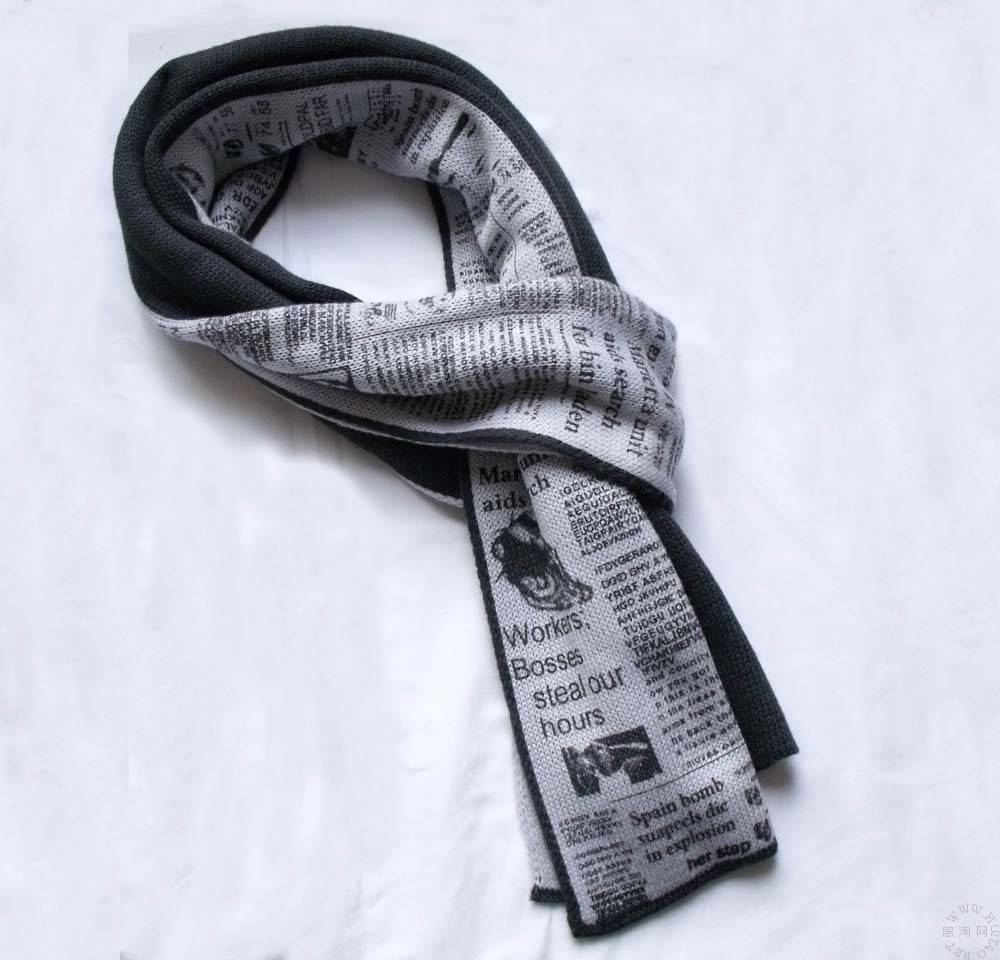flexible: (110, 20, 810, 937)
